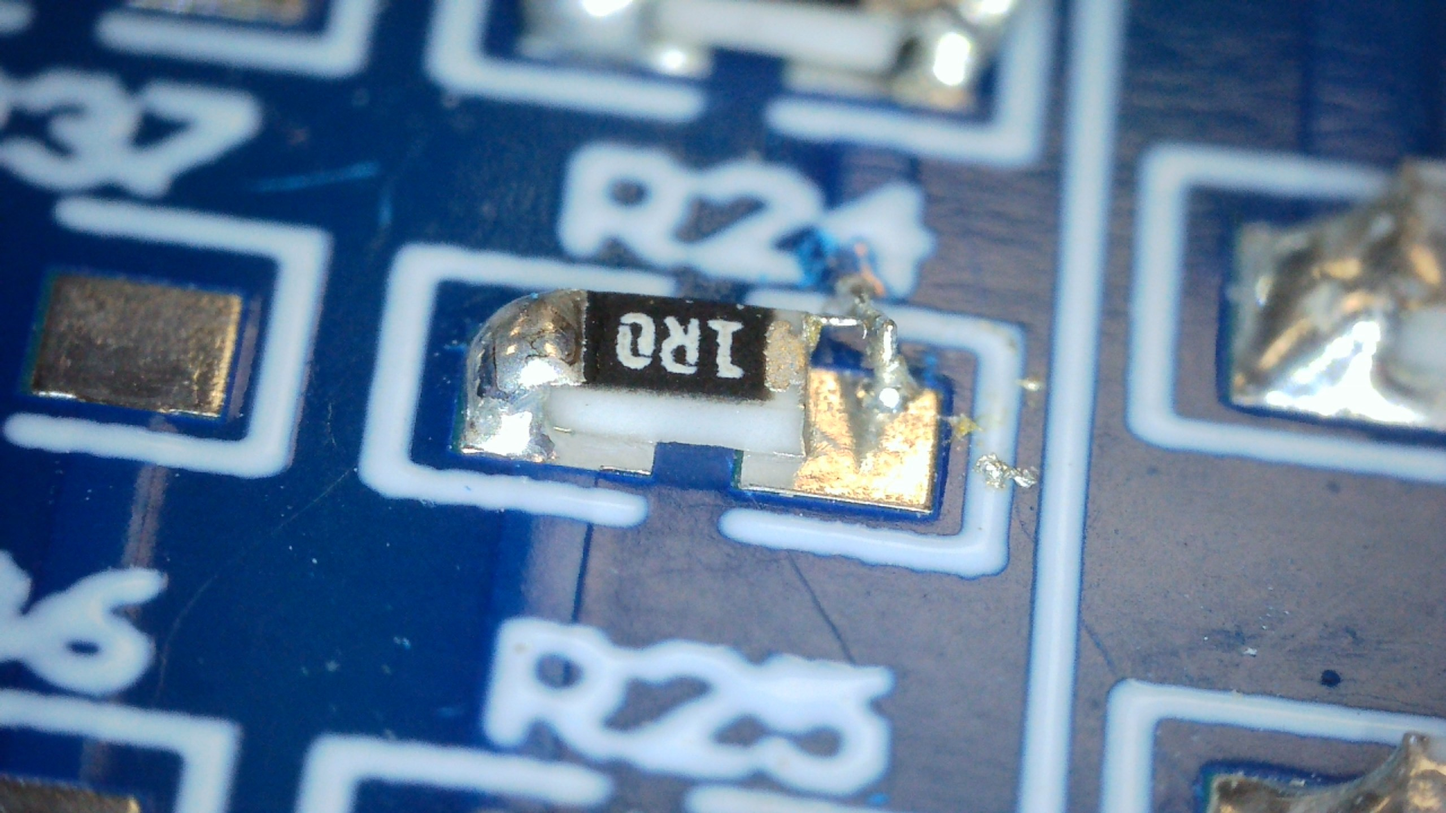NG: (462, 289, 587, 460), (855, 293, 924, 458), (805, 315, 864, 356)
